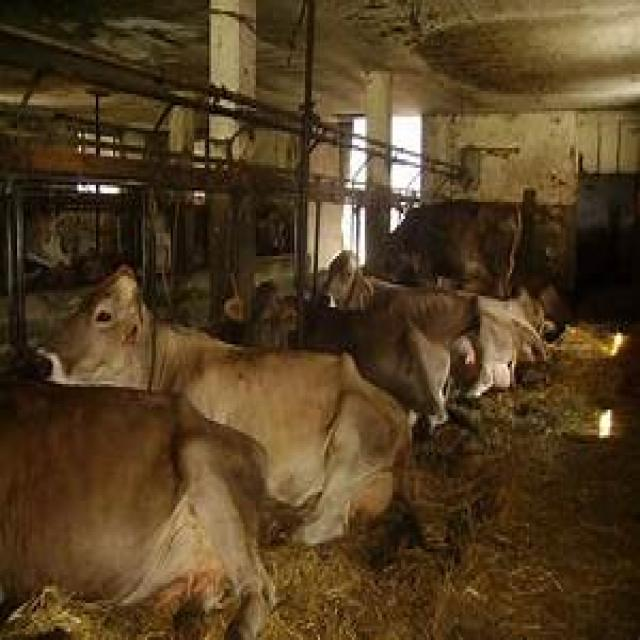cow: (50, 267, 408, 544), (0, 386, 274, 638), (305, 252, 478, 422), (380, 203, 522, 298), (224, 282, 300, 348)
